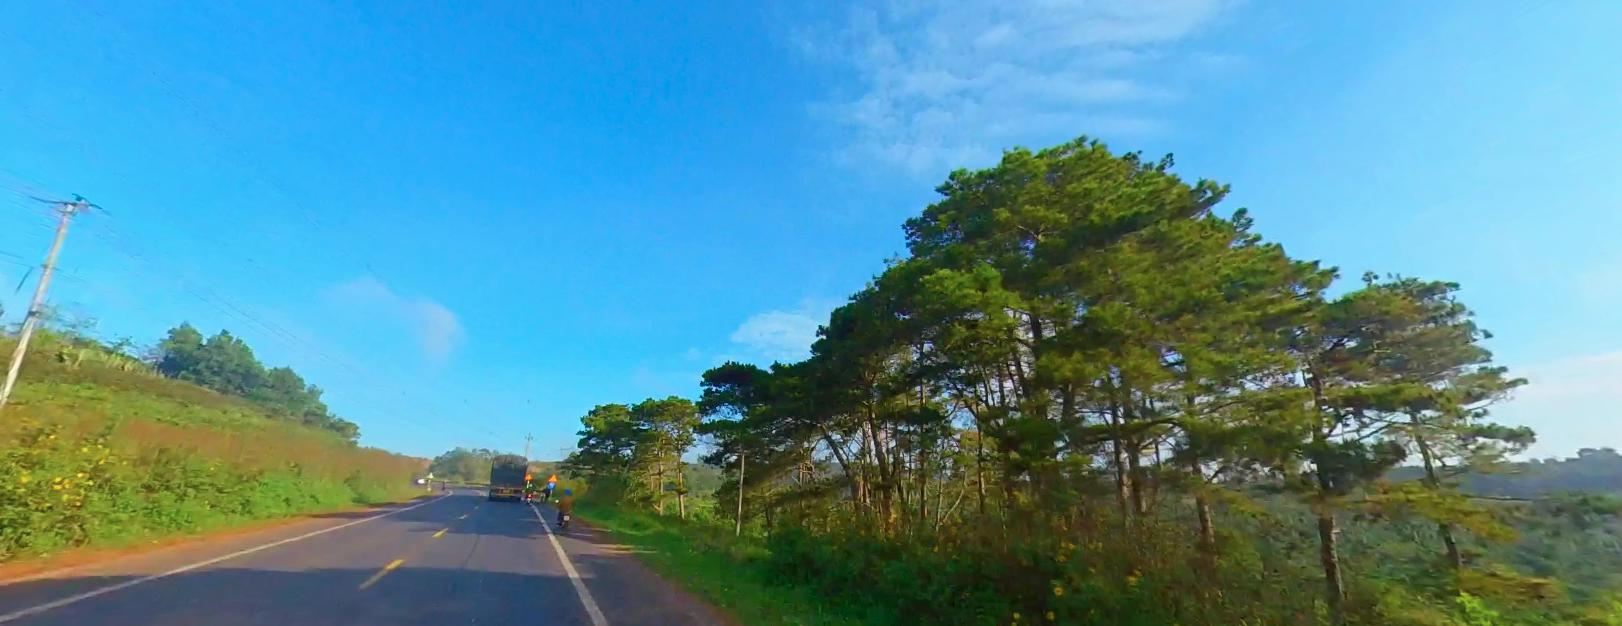Nguy hiem: (547, 472, 557, 480), (524, 472, 532, 479)
